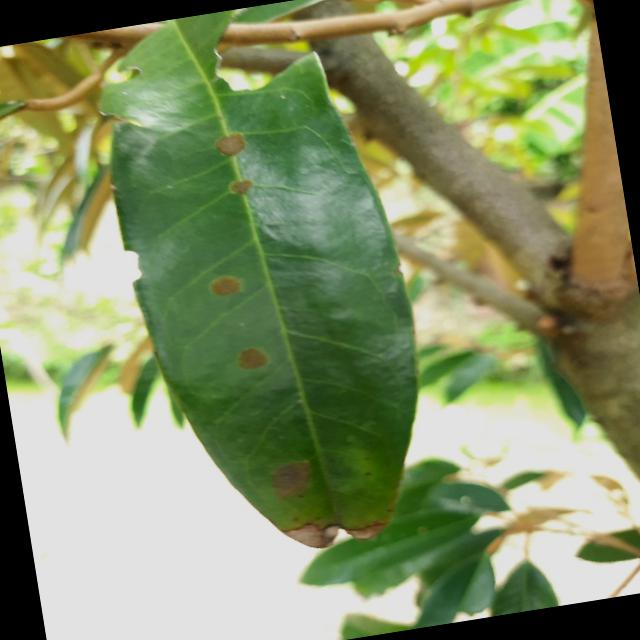Algal Leaf Spot: (78, 0, 459, 583)
